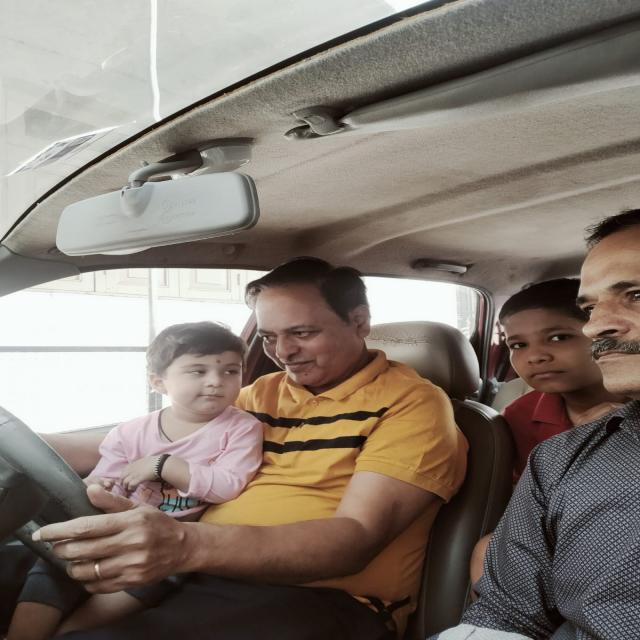child: (144, 318, 246, 416)
person: (250, 253, 376, 391), (575, 201, 640, 396), (497, 279, 590, 406)
